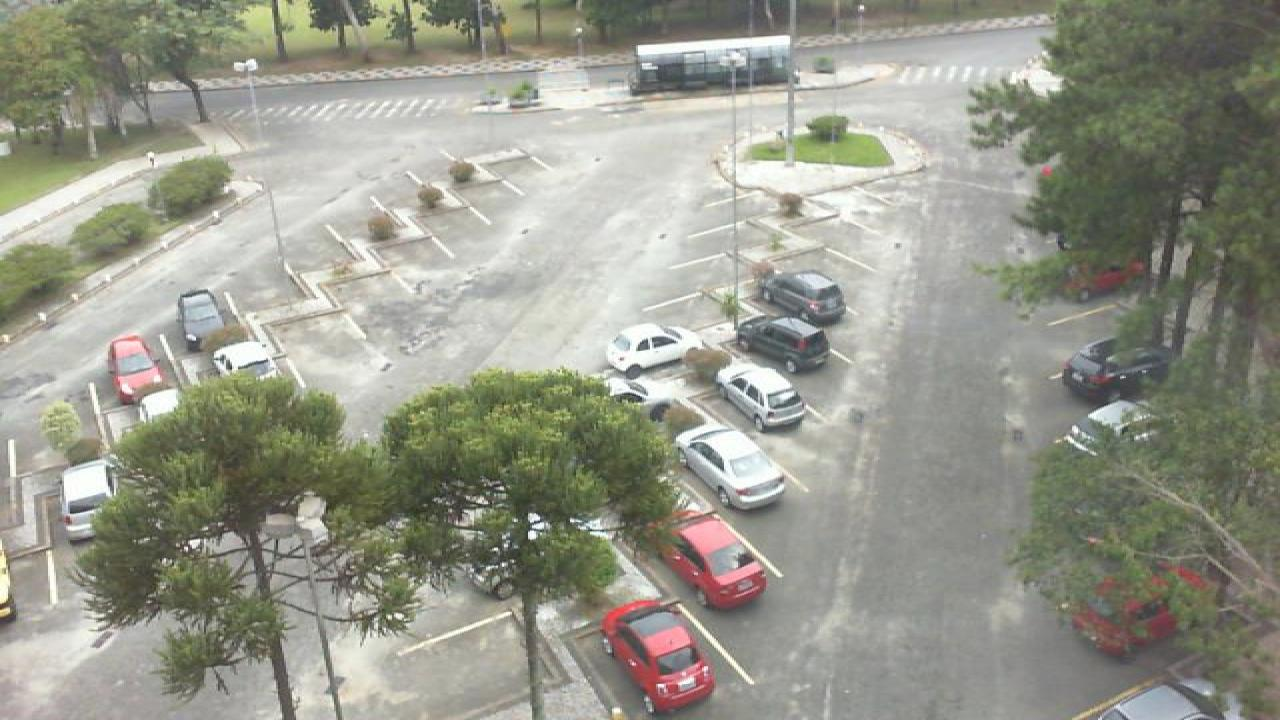Car: (1062, 560, 1214, 660), (600, 598, 718, 714), (640, 510, 768, 610), (674, 423, 788, 512), (1060, 336, 1172, 404), (712, 360, 812, 432), (1056, 398, 1162, 458), (734, 314, 832, 374), (1086, 678, 1220, 720), (604, 323, 704, 375), (56, 459, 118, 542), (762, 269, 850, 325), (604, 375, 712, 416), (106, 334, 166, 403), (1060, 260, 1148, 302), (176, 288, 230, 354), (212, 340, 282, 384), (136, 387, 182, 425)
